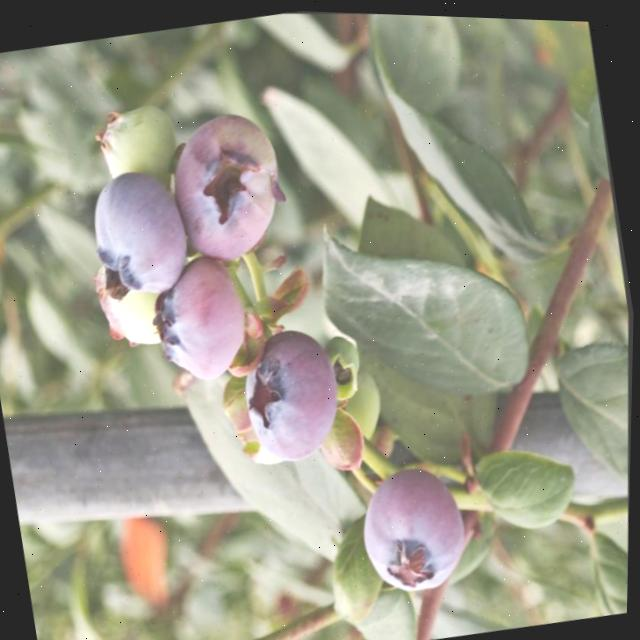RipeBlueBerry: (72, 153, 210, 311)
Semi-RipeBlueBerry: (152, 91, 306, 274), (343, 445, 491, 607), (225, 309, 363, 474), (133, 240, 270, 395)
